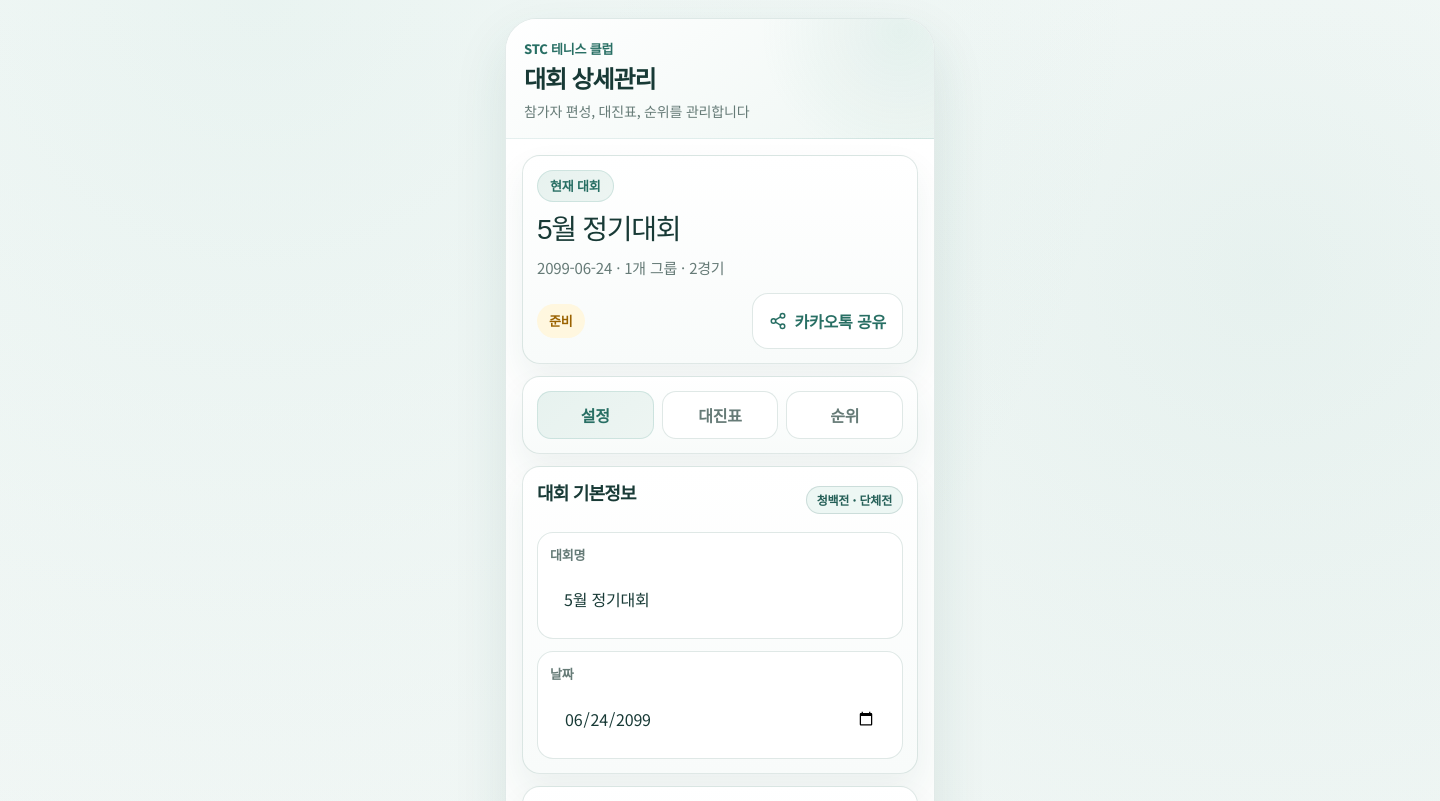
Test: TournamentManageClient save timing › shows duplicate team details for a team battle only in the admin draw
The width and height of the screenshot is (1440, 801).
Click the button "대진표".
click(720, 415)  # box [662, 391, 778, 439]
(page scrolled)
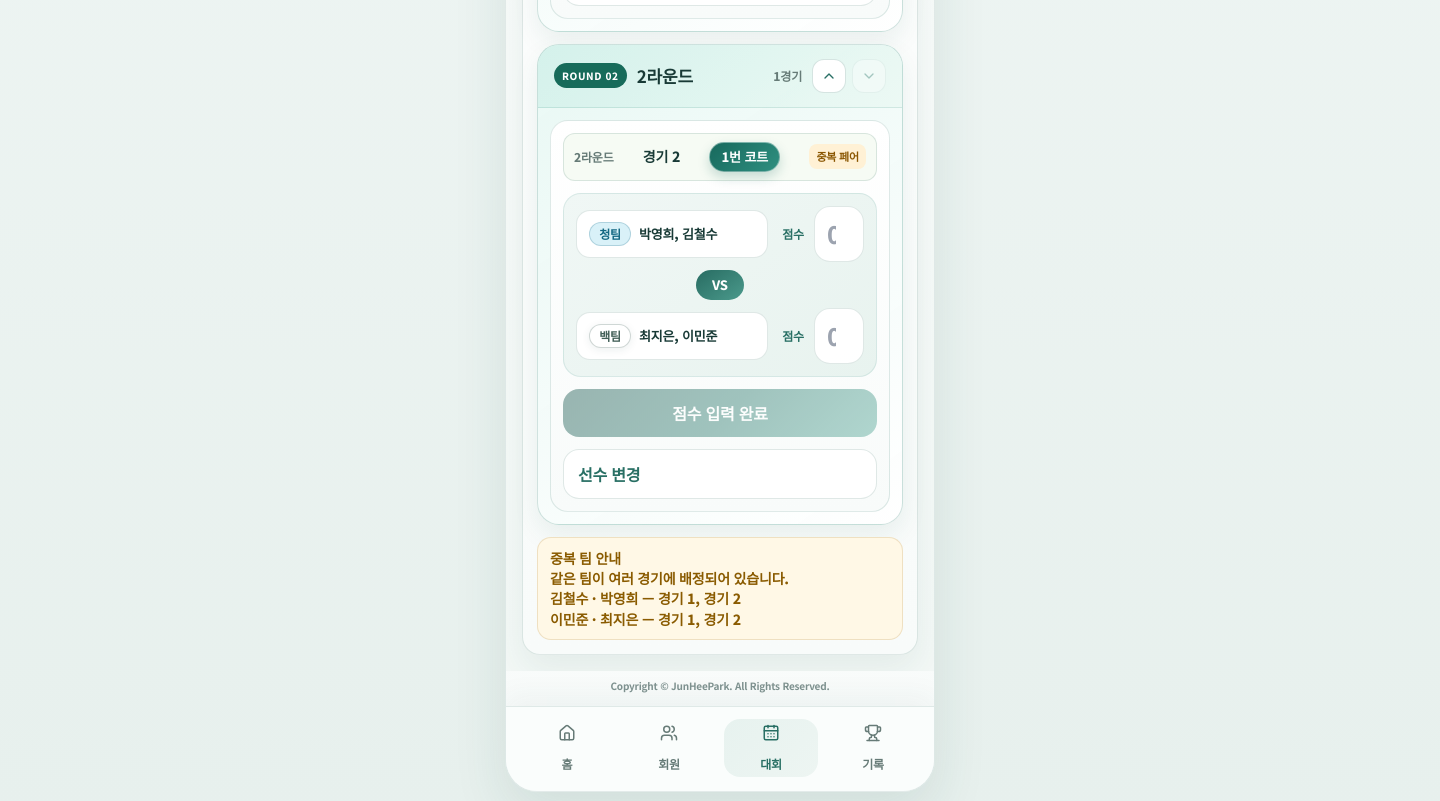
Expected: the text "중복 팀 안내" is shown, [550, 548, 621, 568]
